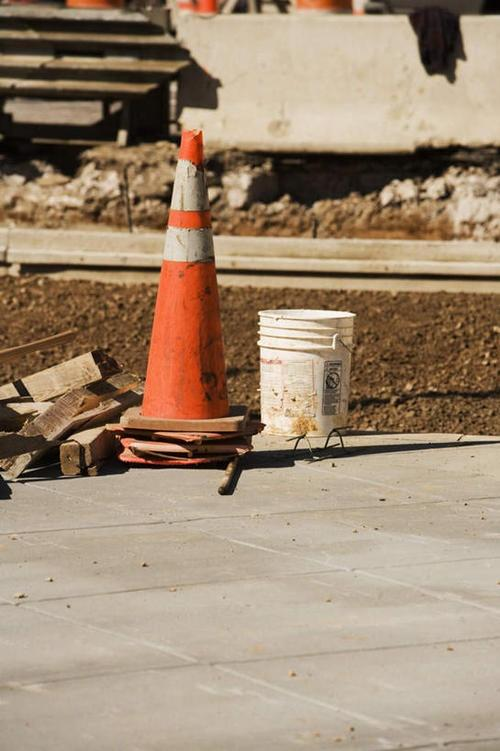cone_barrel: (124, 125, 244, 438)
